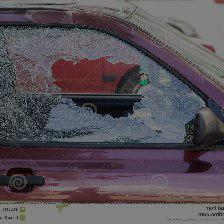glass_shatter: (29, 40, 156, 131)
